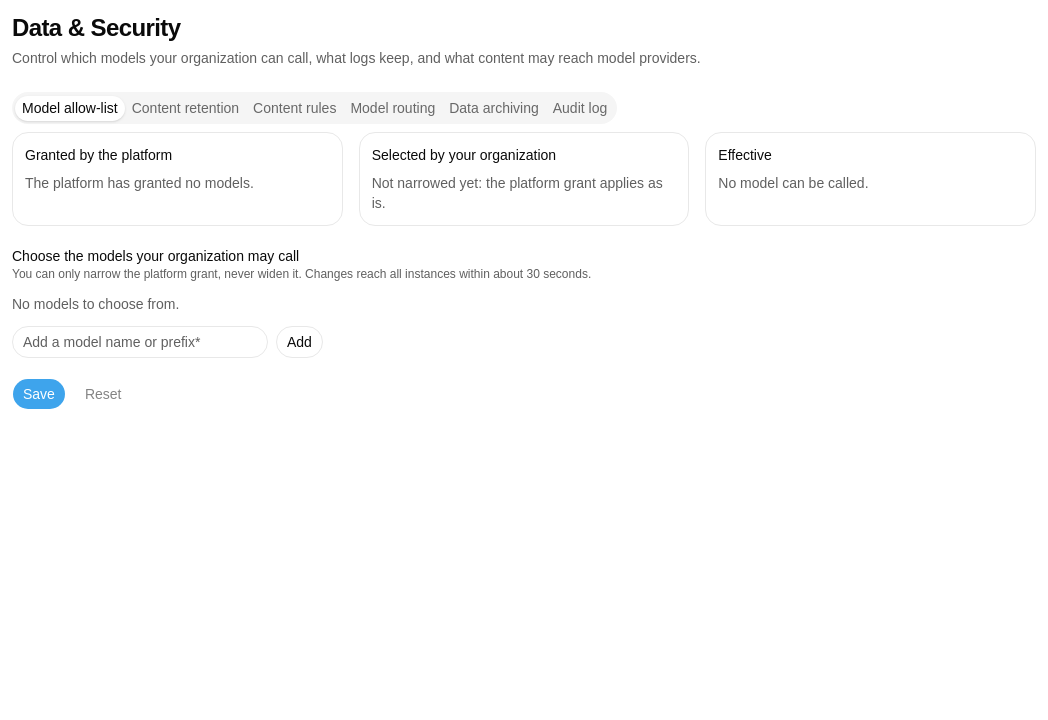
Test: strategy selector › switching to fallback hides every decision-only field
Click the tab "Model routing" at (393, 108), box [343,96,442,120]
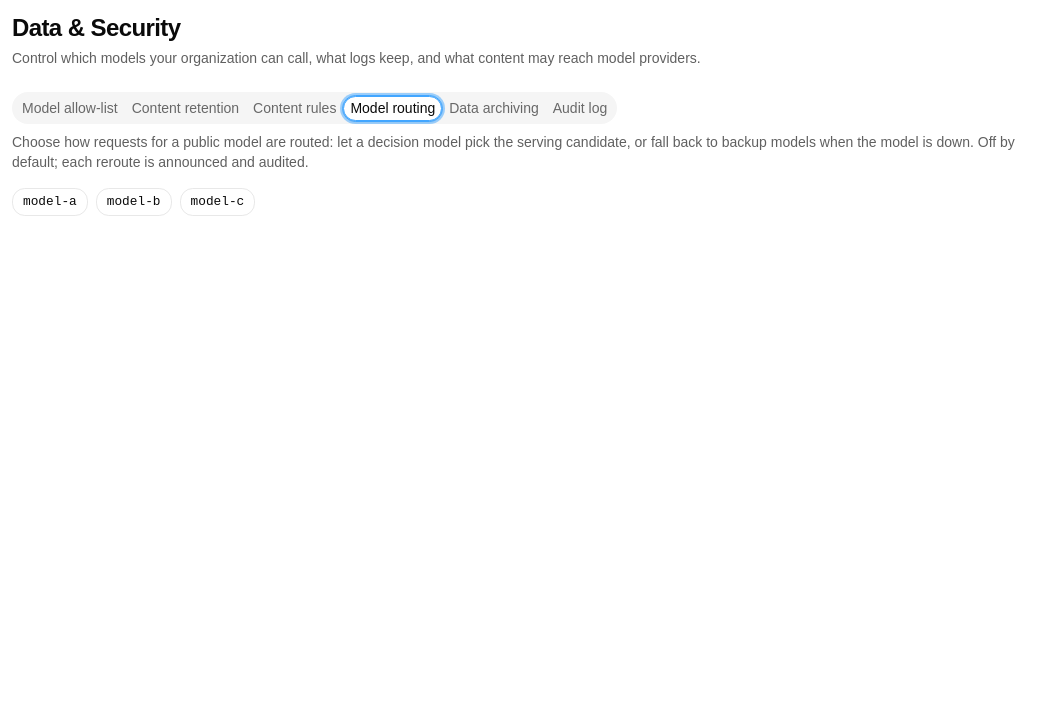
Click the button "model-a" at (50, 202), box [12,188,88,216]
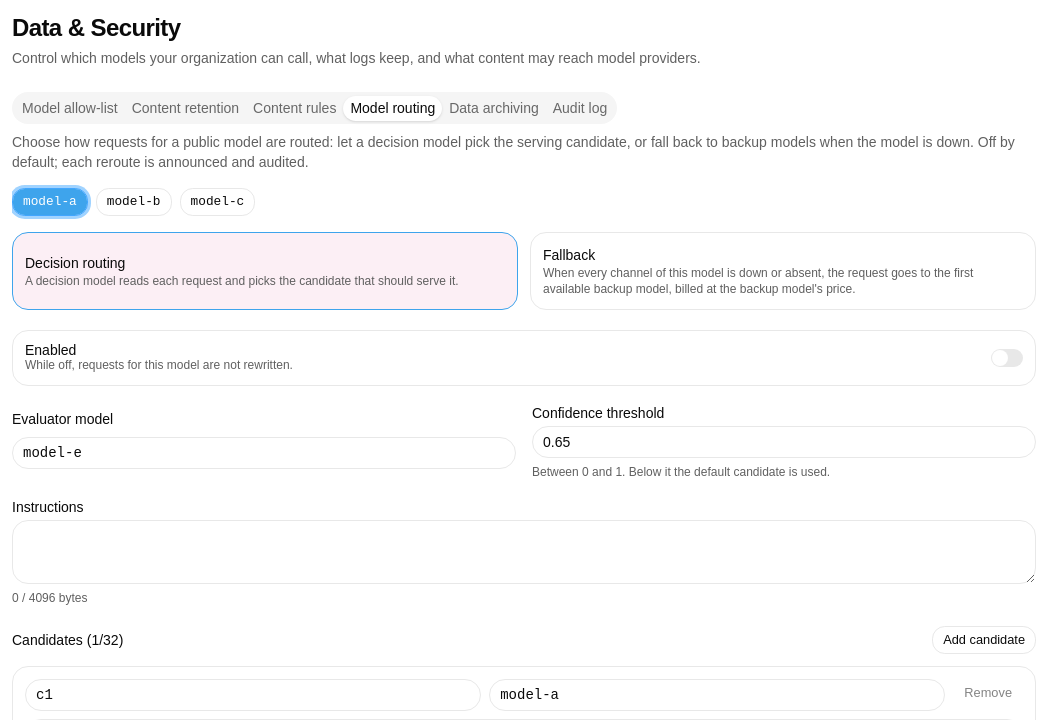
Click the radio button labelled "Fallback" at (783, 271), box [530,232,1036,310]
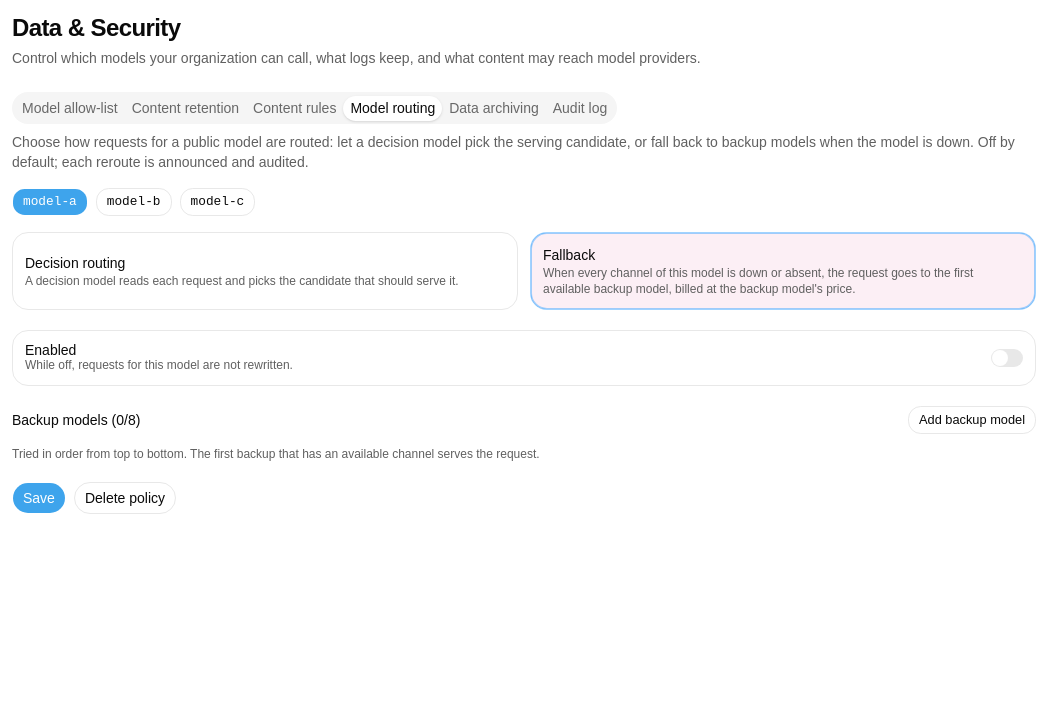
Expected: the radio button labelled "Fallback" is checked, [530,232,1036,310]
Expected: the label labelled "Evaluator model" is gone
Expected: the label labelled "Confidence threshold" is gone
